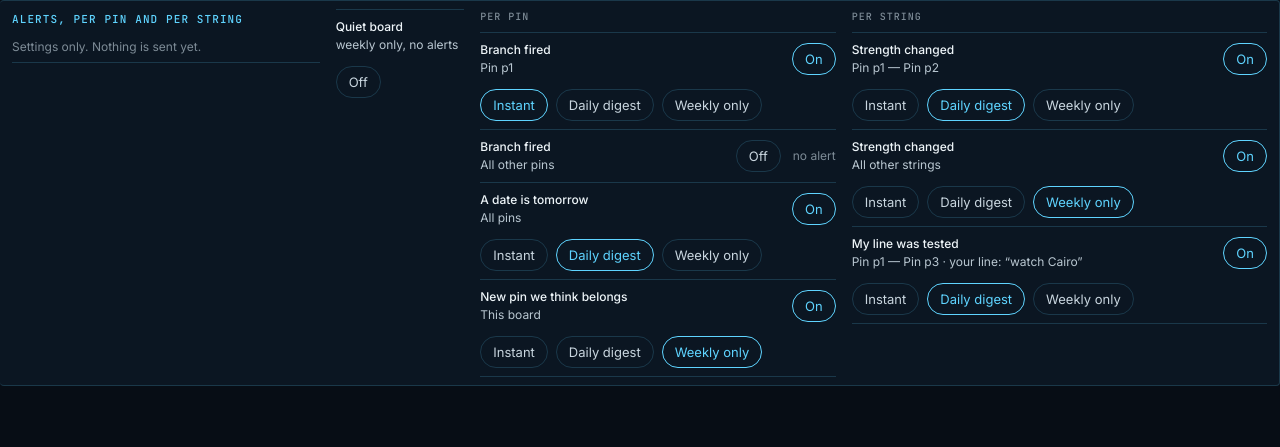
Scenario: AlertsPanel › switches a row and the quiet board
Click the button with aria-label "Branch fired, Pin p1": [814, 59] box [792,43,836,75]
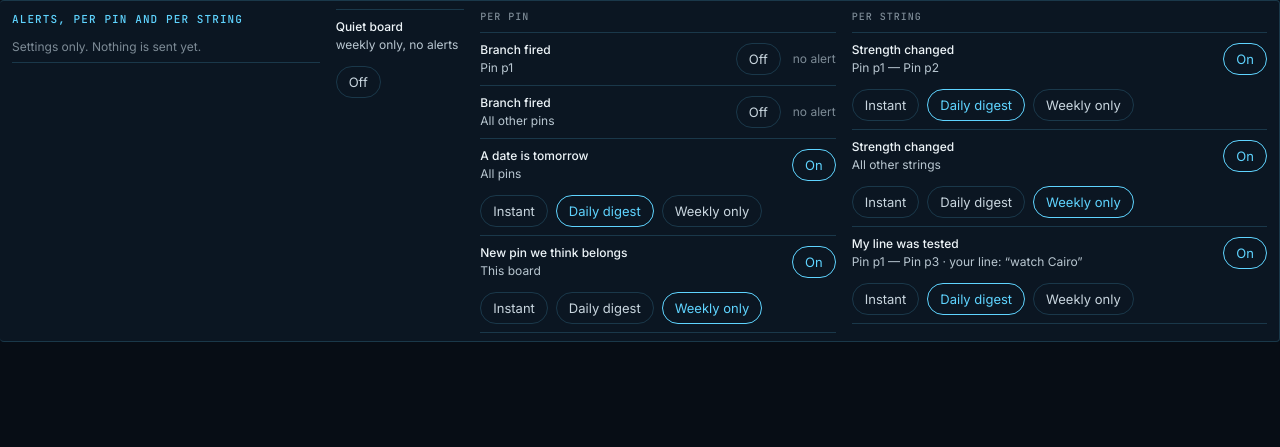
Now the element named "Delivery for Branch fired, Pin p1" reads "no alert", box [793,51,836,66]
Click the button with aria-label "Quiet board: weekly only, no alerts": [358, 82] box [336,66,381,98]
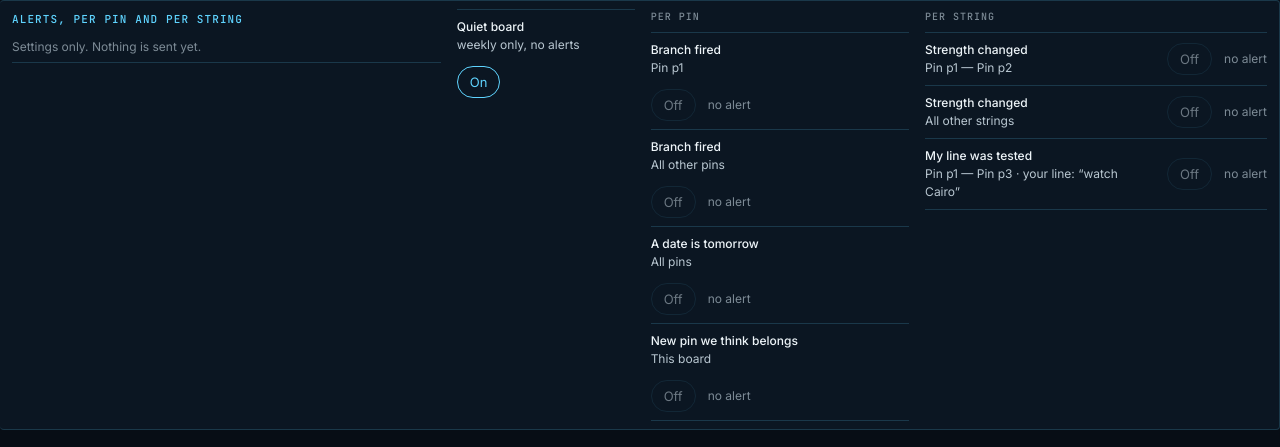
Now the button with aria-label "A date is tomorrow, All pins" is disabled, box [651,283,696,315]
